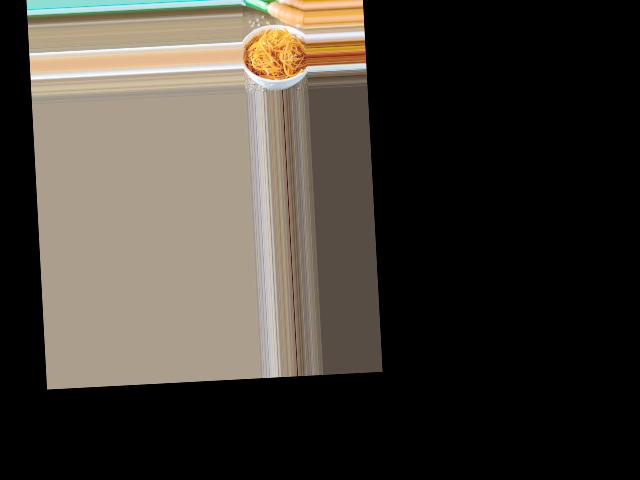carrot: (265, 1, 303, 25)
